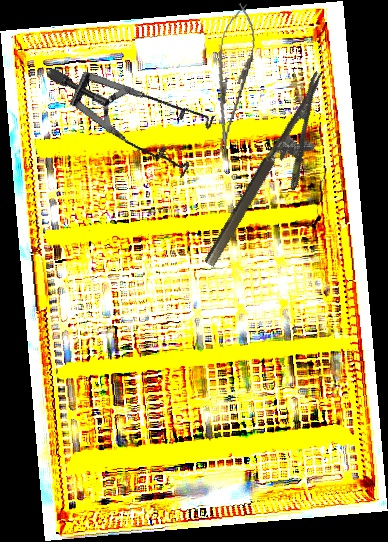Needle Holder: (202, 70, 353, 283), (204, 1, 261, 156)
Speculum: (44, 8, 234, 210)
